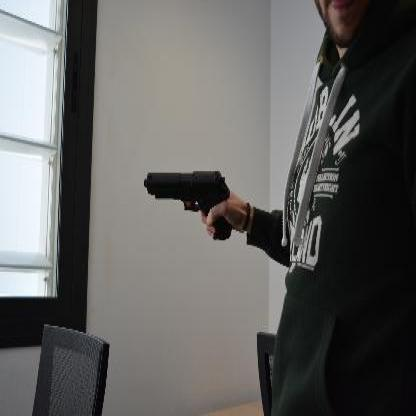pistol: (142, 167, 232, 240)
